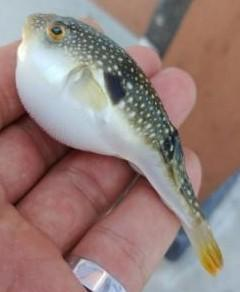fish: (16, 13, 222, 275)
